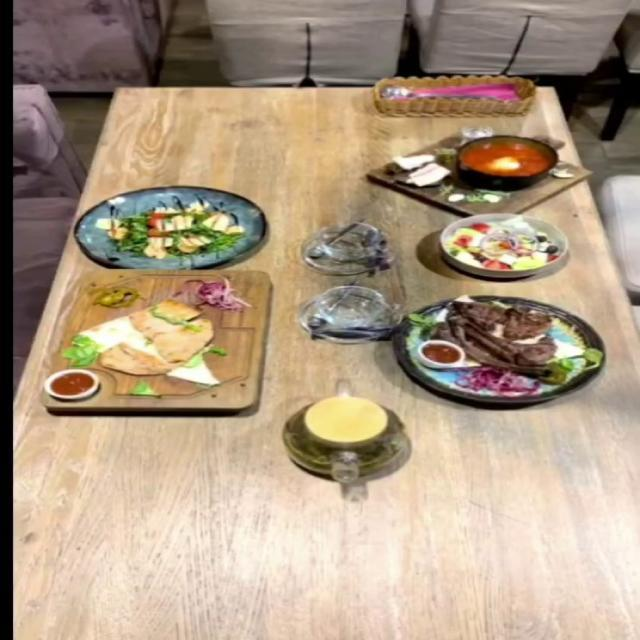meat: (41, 267, 289, 418), (390, 295, 606, 404)
salad: (72, 185, 264, 268), (439, 212, 572, 278)
soup: (364, 128, 594, 218)
tea: (280, 394, 408, 482)
